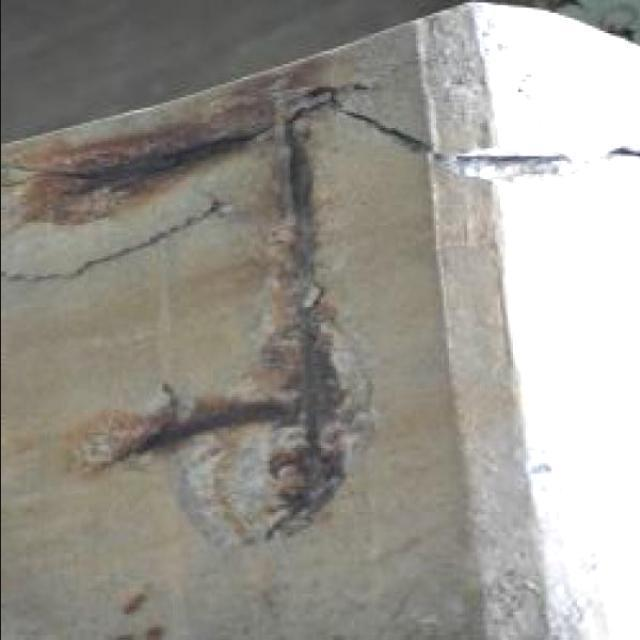crack: (17, 85, 636, 223), (417, 82, 524, 640), (261, 102, 354, 530), (7, 201, 222, 284)
dampness: (78, 378, 398, 536)
